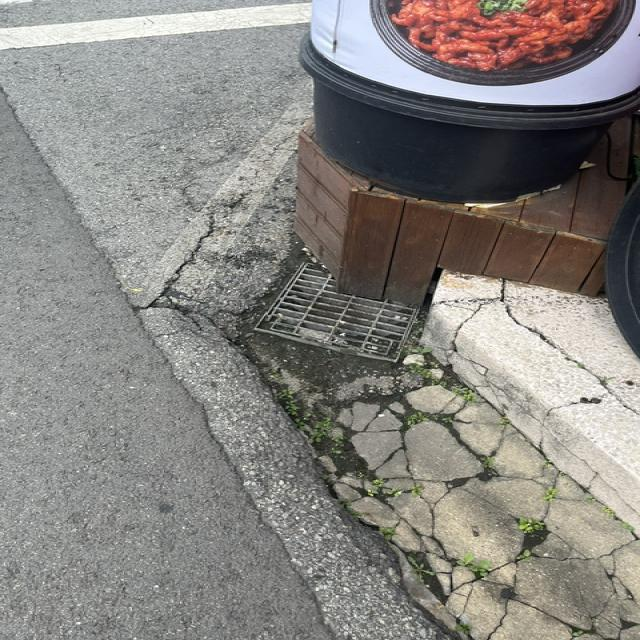drain_area: (273, 266, 404, 337)
drain_full: (255, 262, 428, 361)
